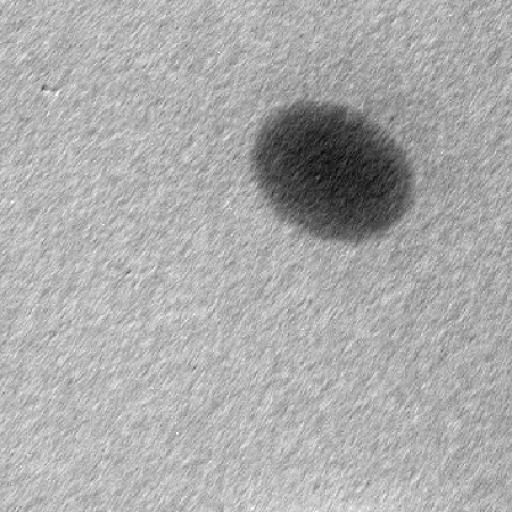Nanoparticles: (246, 96, 417, 249)
